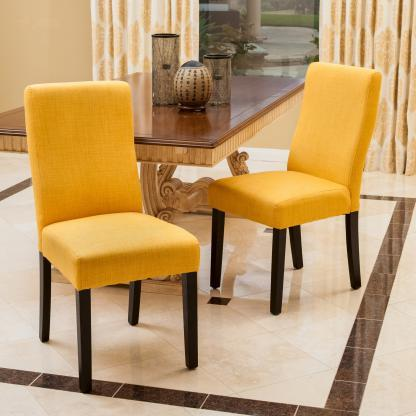chair: (20, 77, 200, 389), (207, 52, 378, 312)
table: (0, 66, 304, 222)
